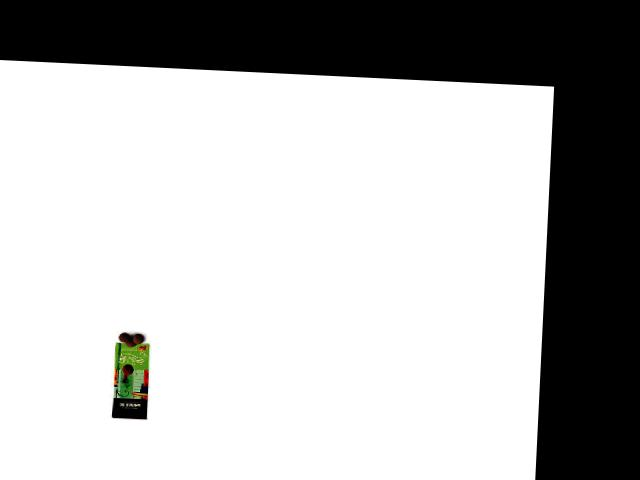chocolate: (103, 340, 155, 422)
